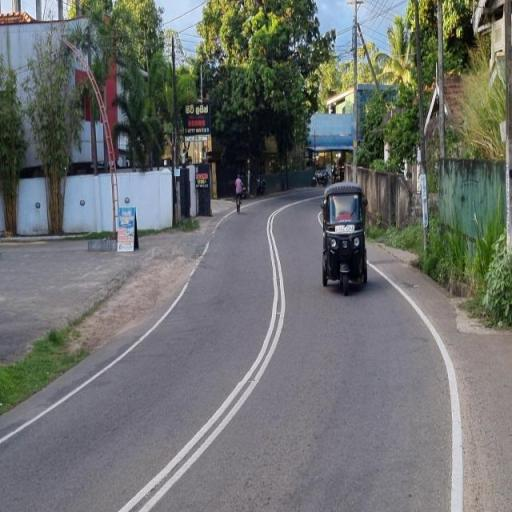double_white_line: (114, 197, 284, 511)
